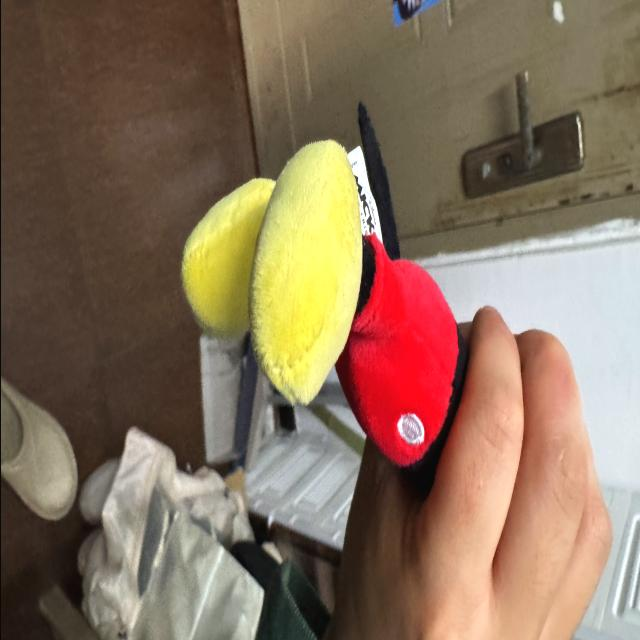mickey: (182, 106, 466, 492)
